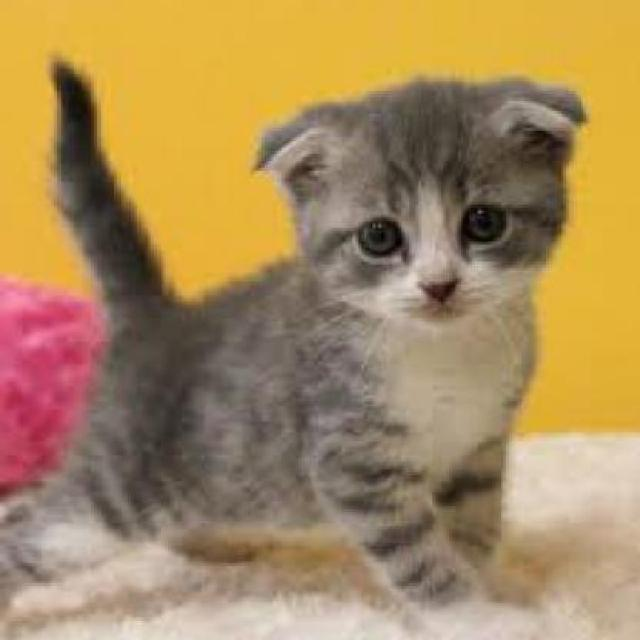cat: (7, 50, 588, 602)
